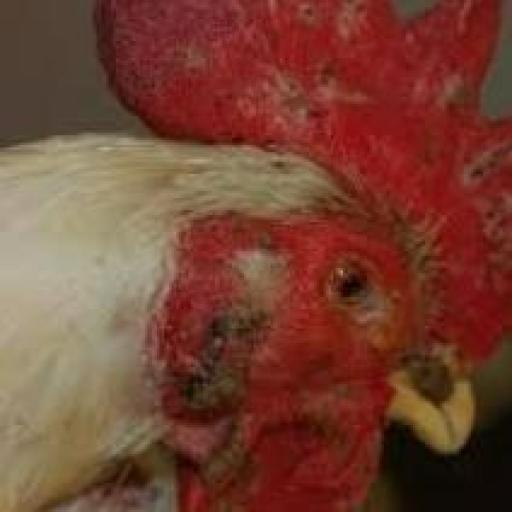disease: (128, 0, 512, 140), (360, 124, 512, 395), (157, 293, 284, 437), (384, 296, 492, 428)
